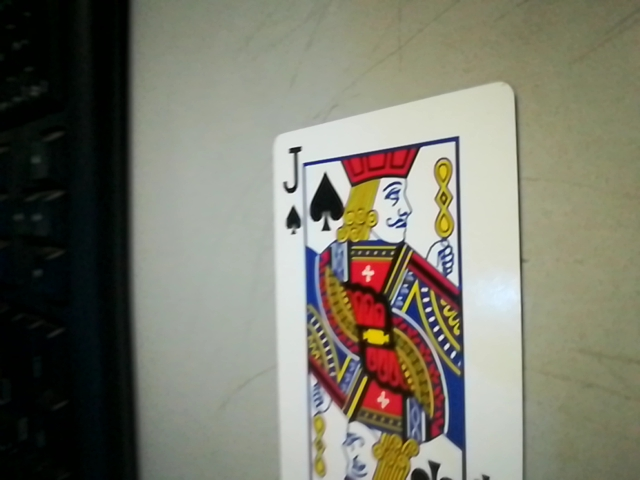ht j: (273, 139, 312, 235)
